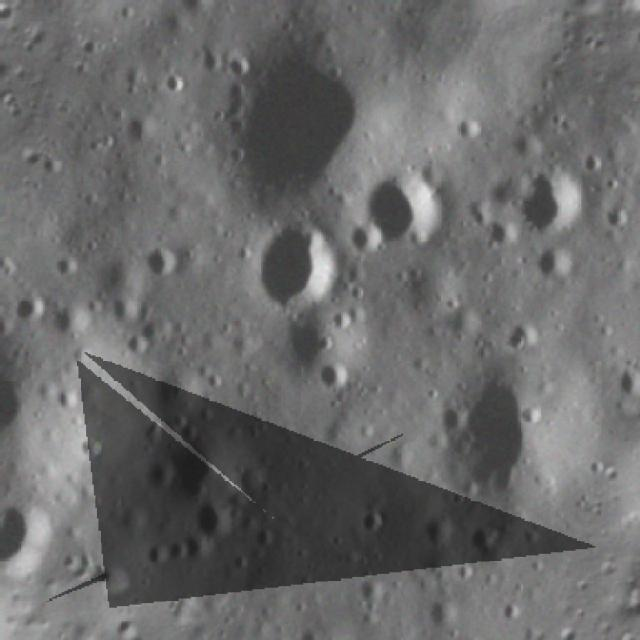crater: (238, 216, 350, 322), (362, 160, 456, 258), (515, 164, 597, 244), (188, 500, 238, 542), (536, 240, 584, 282), (462, 191, 501, 234), (350, 570, 392, 608), (138, 534, 179, 572), (12, 288, 50, 328), (421, 597, 462, 634), (468, 515, 504, 554), (144, 243, 181, 280), (354, 503, 388, 540), (51, 383, 88, 417), (507, 319, 541, 355), (318, 358, 354, 391), (49, 253, 83, 287), (604, 204, 638, 238), (222, 51, 258, 83), (427, 517, 459, 552), (515, 399, 548, 430), (158, 69, 191, 100), (76, 433, 106, 467), (452, 114, 483, 146), (497, 600, 526, 629), (581, 152, 608, 176), (452, 563, 473, 588), (140, 0, 168, 6)
